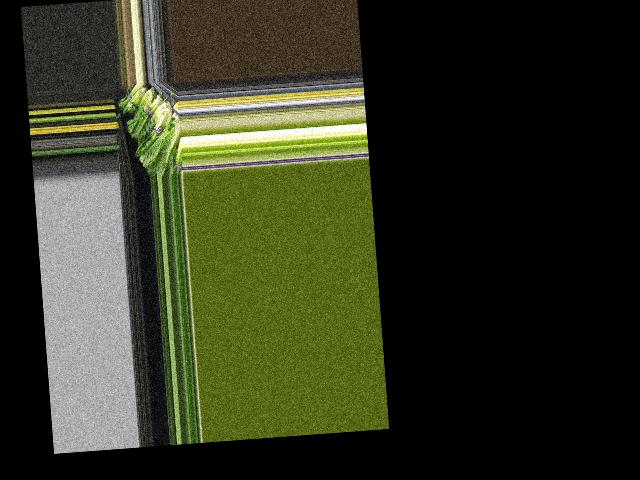lettuce: (139, 120, 181, 176)
